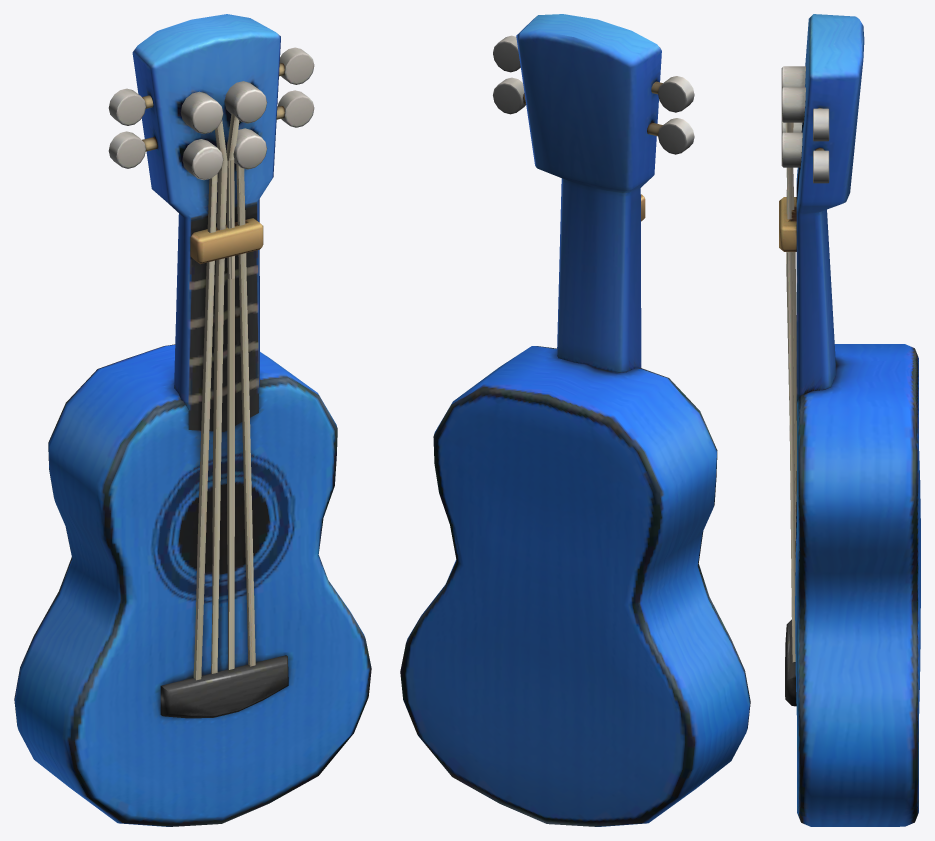
Rendered from 0-guitar_blue.fbx.
3 views of the same model, side by side, from view 1: azimuth 30°, elevation 25°; view 2: azimuth 150°, elevation 25°; view 3: azimuth 270°, elevation 25° (orthographic).
Visible parts, largest first — view 1: 0-guitar_blue; view 2: 0-guitar_blue; view 3: 0-guitar_blue.
Part boxes in pixels (x1,y1,x2,y2): 0-guitar_blue: (14, 14, 371, 826); 0-guitar_blue: (400, 14, 750, 826); 0-guitar_blue: (779, 14, 920, 826).
Bounding box in the file's own units: 38.91 × 95.23 × 15.86.
